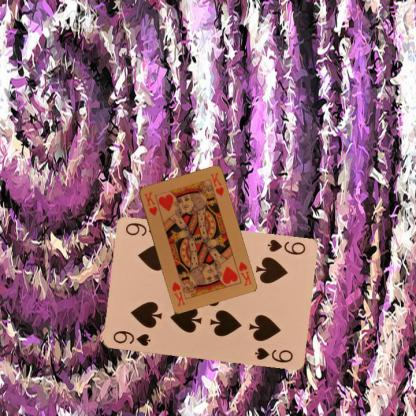9s: (110, 328, 152, 348), (265, 237, 306, 256)
Kh: (236, 259, 253, 287), (142, 190, 158, 216)
